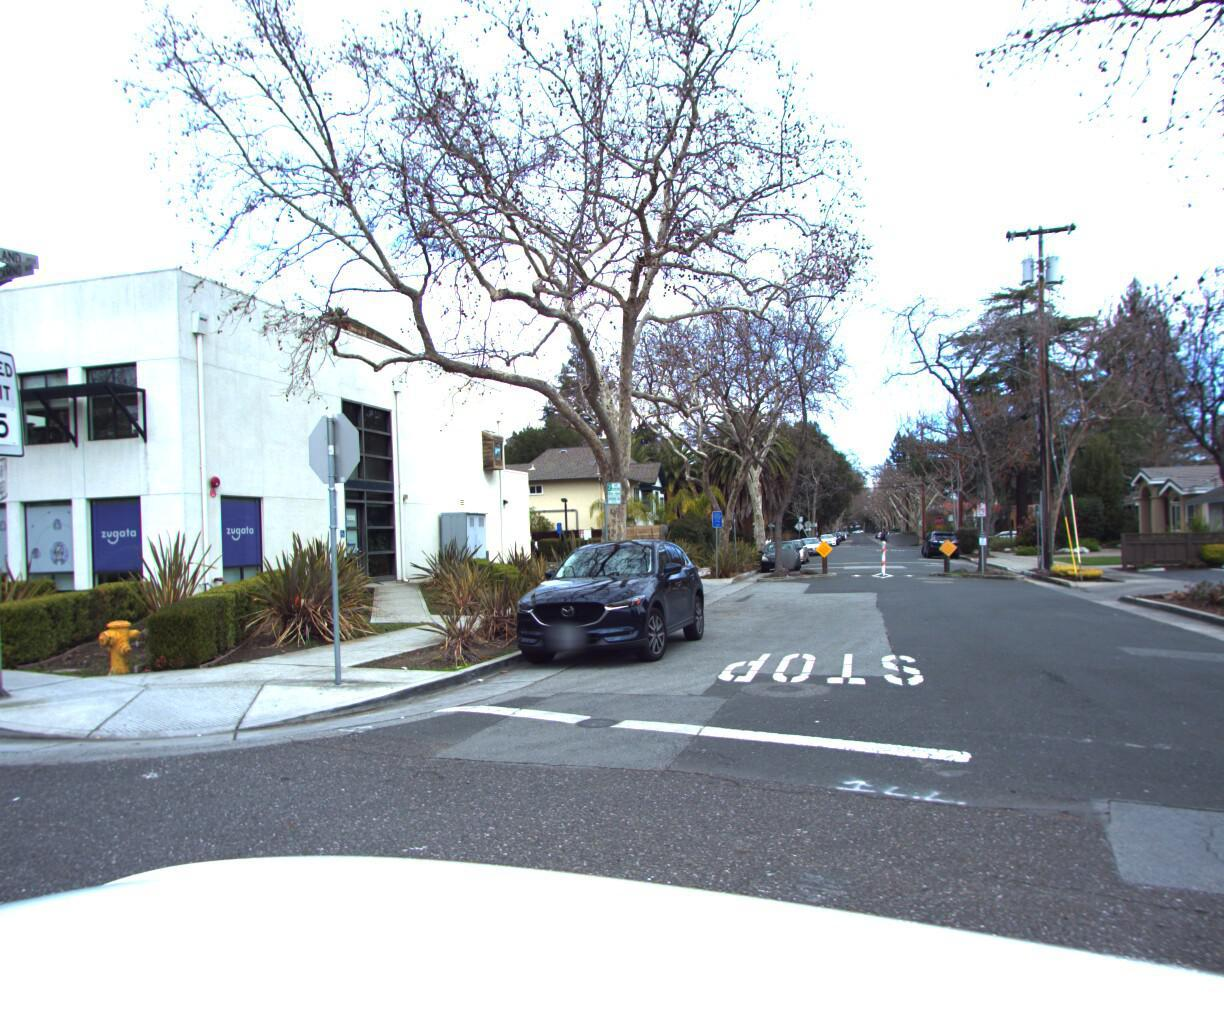car: (489, 527, 714, 669), (754, 529, 805, 567), (922, 523, 961, 552), (772, 529, 811, 557)
